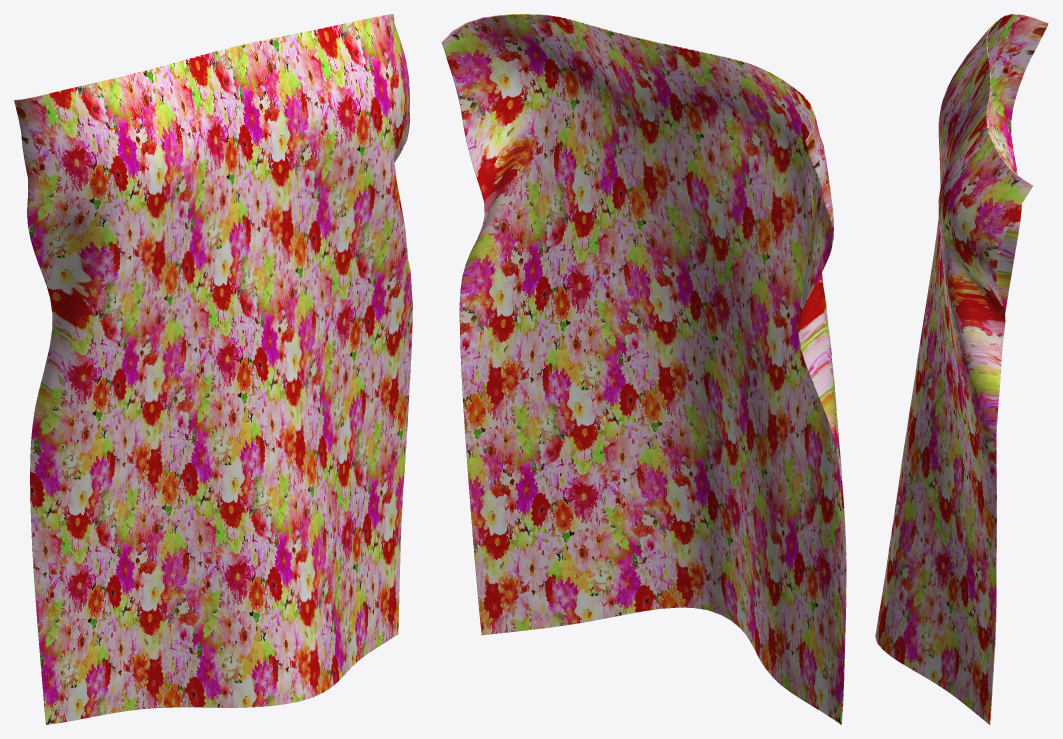
File: 003a-f_Ragglan+PleatsSkirt_Print_UV1.obj
3 renders of one model, left to right at view 1: azimuth 30°, elevation 25°; view 2: azimuth 150°, elevation 25°; view 3: azimuth 270°, elevation 25°, orthographic. The views are drawn at different scales.
Visible parts, largest first — view 1: 003a-f_Ragglan+PleatsSkirt_Print; view 2: 003a-f_Ragglan+PleatsSkirt_Print; view 3: 003a-f_Ragglan+PleatsSkirt_Print.
Part boxes in pixels (<box>): 003a-f_Ragglan+PleatsSkirt_Print: <box>14,14,412,724</box>; 003a-f_Ragglan+PleatsSkirt_Print: <box>441,14,846,724</box>; 003a-f_Ragglan+PleatsSkirt_Print: <box>875,14,1048,724</box>.
Size of the model in its own units: 0.2146 by 0.3385 by 0.0925.
